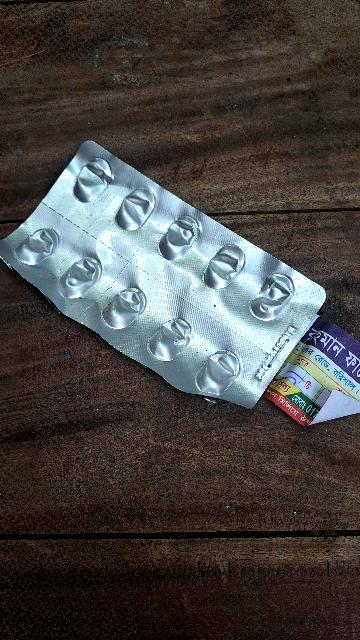medicine: (0, 124, 336, 415)
